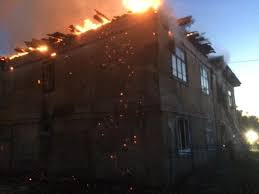fire: (18, 4, 173, 53)
